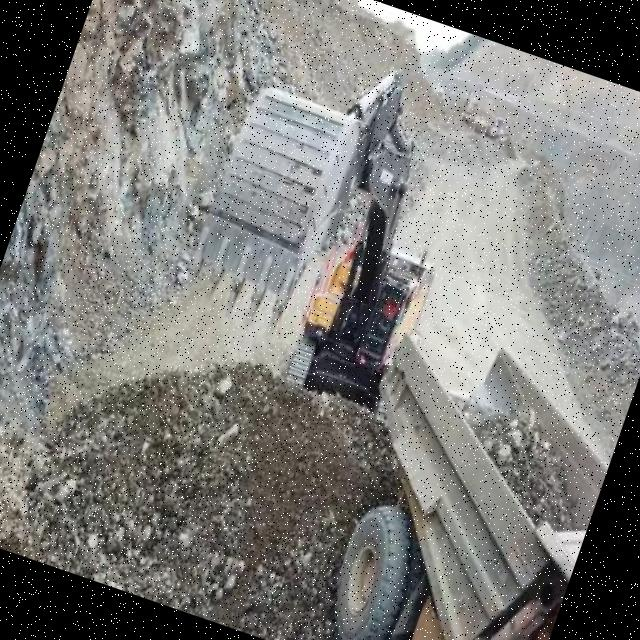Dump Truck: (283, 306, 635, 640)
Excavator: (159, 20, 497, 421)
